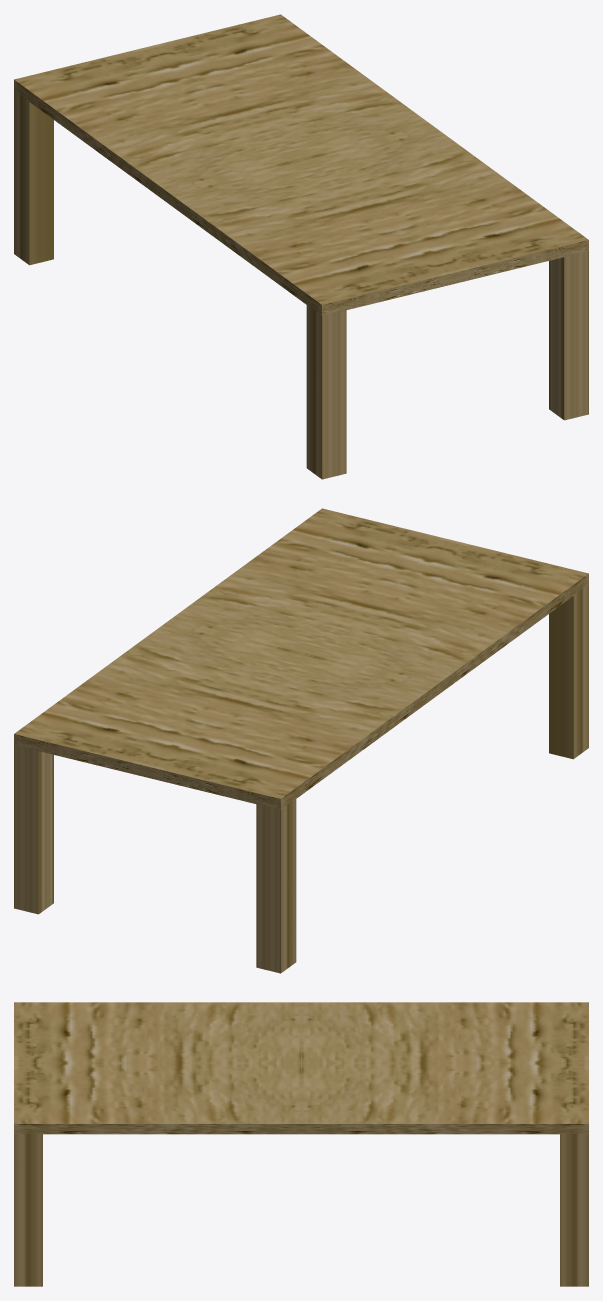
Rendered from Masa.fbx.
3 renders of one model, top to bottom at view 1: azimuth 30°, elevation 25°; view 2: azimuth 150°, elevation 25°; view 3: azimuth 270°, elevation 25°, orthographic. The views are drawn at different scales.
Visible parts, largest first — view 1: Cube; view 2: Cube; view 3: Cube.
Part boxes in pixels (bbox=[...]): Cube: bbox=[14, 14, 588, 479]; Cube: bbox=[14, 508, 588, 973]; Cube: bbox=[14, 1002, 588, 1286].
Size of the model in its own units: 1000 by 625 by 2000.
